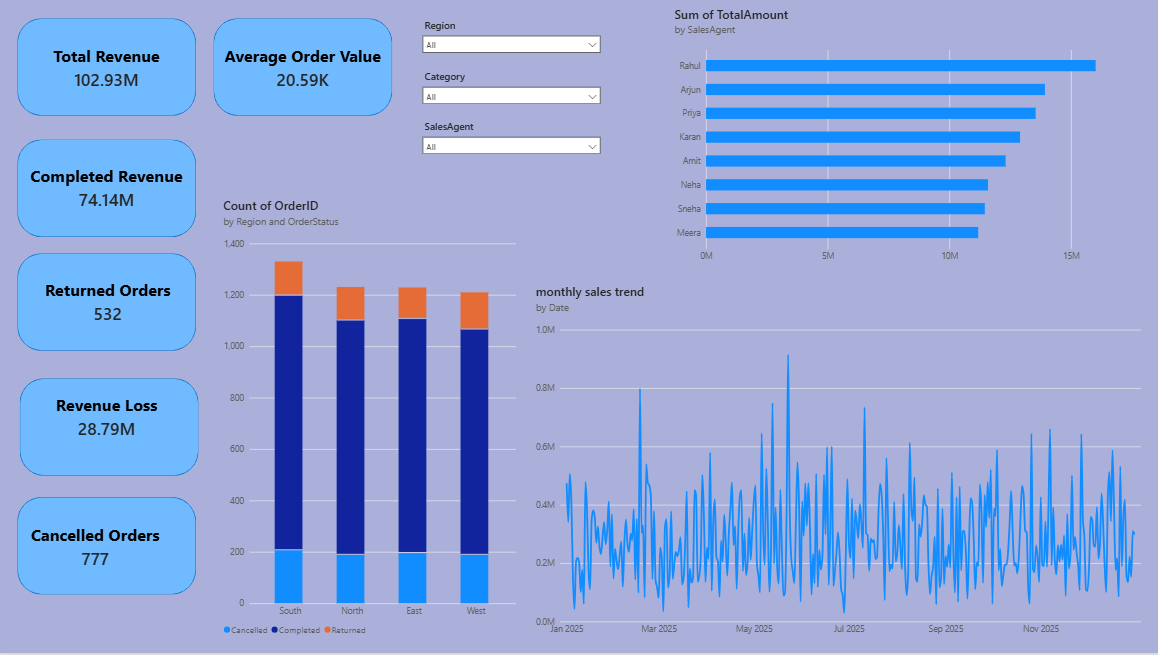

The dashboard page shown, as its layout file describes it:
{"tool":"powerbi","page":{"name":"visualization","canvas":[1920,1080],"ordinal":0},"visuals":[{"type":"shape","box":[35,35,294.3,160.5],"z":0},{"type":"shape","box":[35,234.6,294.3,160.5],"z":1000},{"type":"shape","box":[39.1,627.8,294.3,160.5],"z":2000},{"type":"shape","box":[358.1,35,294.3,160.5],"z":3000},{"type":"cardVisual","fields":{"Data":["RegionalSales2025.Total Revenue"]},"box":[35,35,294.3,162.6],"z":4000},{"type":"cardVisual","fields":{"Data":["RegionalSales2025.Completed Revenue"]},"box":[35,232.6,294.3,162.6],"z":5000},{"type":"cardVisual","fields":{"Data":["RegionalSales2025.Revenue Loss"]},"box":[35,609.3,294.3,162.6],"z":6000},{"type":"cardVisual","fields":{"Data":["RegionalSales2025.Average Order Value"]},"box":[358.1,35,294.3,162.6],"z":7000},{"type":"columnChart","fields":{"Category":["RegionalSales2025.Region"],"Series":["RegionalSales2025.OrderStatus"],"Y":["CountNonNull(RegionalSales2025.OrderID)"]},"box":[358.1,314.9,514.6,757.5],"z":8000},{"type":"shape","box":[35,422,294.3,160.5],"z":9000},{"type":"cardVisual","fields":{"Data":["RegionalSales2025.Returned Orders"]},"box":[37,419.9,294.3,162.6],"z":10000},{"type":"shape","box":[35,823.3,294.3,160.5],"z":11000},{"type":"cardVisual","fields":{"Data":["RegionalSales2025.Cancelled Orders"]},"box":[16.5,823.3,294.3,162.6],"z":12000},{"type":"lineChart","fields":{"Category":["RegionalSales2025.Date"],"Y":["Sum(RegionalSales2025.TotalAmount)"]},"box":[872.7,456.9,1047.7,615.4],"z":12001},{"type":"clusteredBarChart","fields":{"Category":["RegionalSales2025.SalesAgent"],"Y":["Sum(RegionalSales2025.TotalAmount)"]},"box":[1101.2,0,819.2,456.9],"z":12002},{"type":"slicer","fields":{"Values":["RegionalSales2025.Region"]},"box":[697.8,35,302.6,82.3],"z":12003},{"type":"slicer","fields":{"Values":["RegionalSales2025.Category"]},"box":[697.8,119.4,302.6,78.2],"z":12004},{"type":"slicer","fields":{"Values":["RegionalSales2025.SalesAgent"]},"box":[697.8,201.7,302.6,65.9],"z":12005}]}

Visuals, with their boxes in screenshot pixels (x1, y1, x2, y2), scaled from the page's 1920x1080 canvas onto the 1158x655 screenshot:
shape: [21,21,199,119]
shape: [21,142,199,240]
shape: [24,381,201,478]
shape: [216,21,393,119]
cardVisual - RegionalSales2025.Total Revenue: [21,21,199,120]
cardVisual - RegionalSales2025.Completed Revenue: [21,141,199,240]
cardVisual - RegionalSales2025.Revenue Loss: [21,370,199,468]
cardVisual - RegionalSales2025.Average Order Value: [216,21,393,120]
columnChart - RegionalSales2025.Region x RegionalSales2025.OrderStatus: [216,191,526,650]
shape: [21,256,199,353]
cardVisual - RegionalSales2025.Returned Orders: [22,255,200,353]
shape: [21,499,199,597]
cardVisual - RegionalSales2025.Cancelled Orders: [10,499,187,598]
lineChart - RegionalSales2025.Date x Sum(RegionalSales2025.TotalAmount): [526,277,1157,650]
clusteredBarChart - RegionalSales2025.SalesAgent x Sum(RegionalSales2025.TotalAmount): [664,0,1157,277]
slicer - RegionalSales2025.Region: [421,21,603,71]
slicer - RegionalSales2025.Category: [421,72,603,120]
slicer - RegionalSales2025.SalesAgent: [421,122,603,162]
